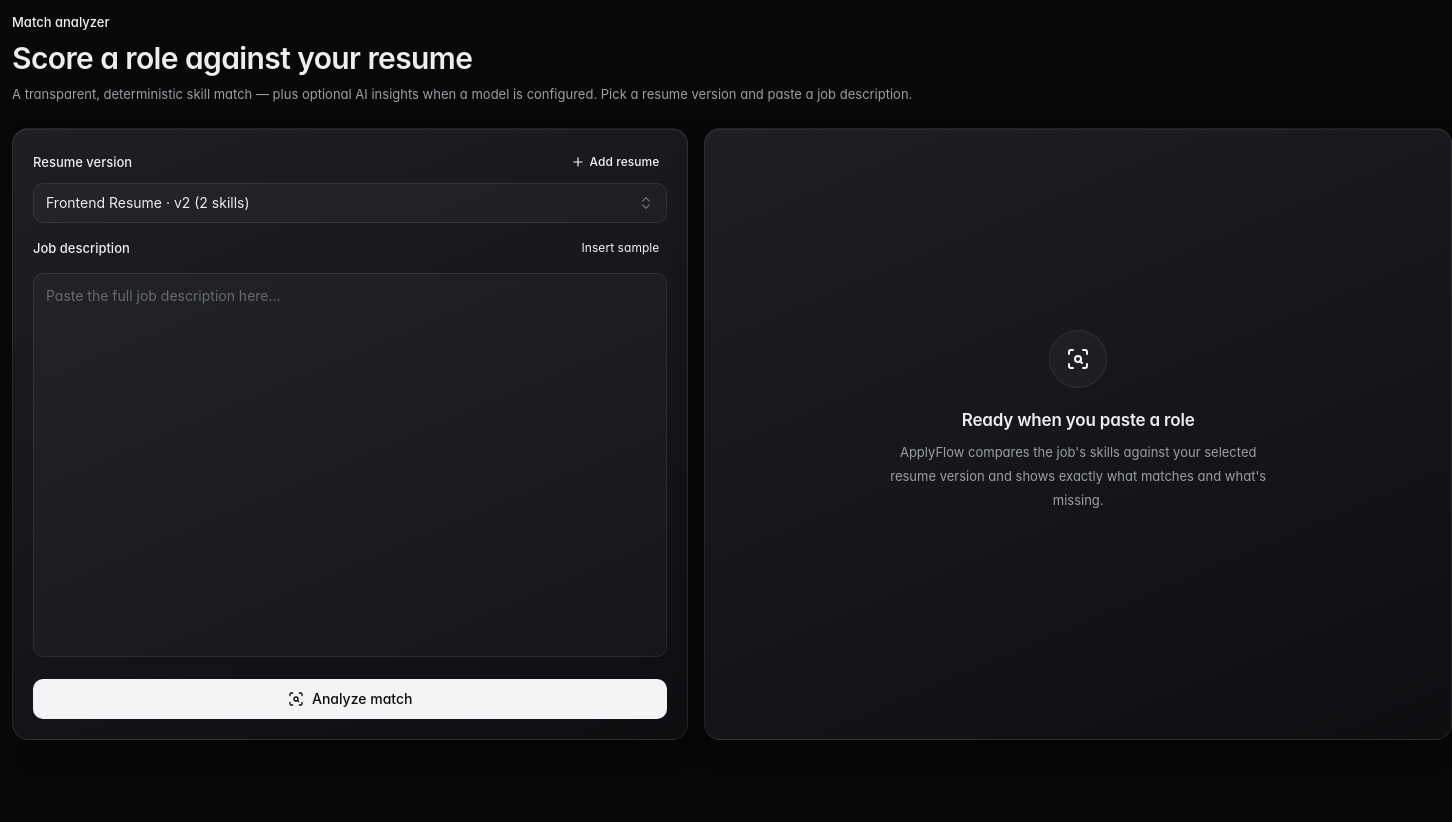
Test: AnalyzerWorkspace › falls back to deterministic-only when AI is unavailable
The width and height of the screenshot is (1452, 822).
Type "We need a frontend engineer strong in React and TypeScript to build accessible UI at scale." into the text box labelled "Job description" at (350, 465), box [33,273,667,657]
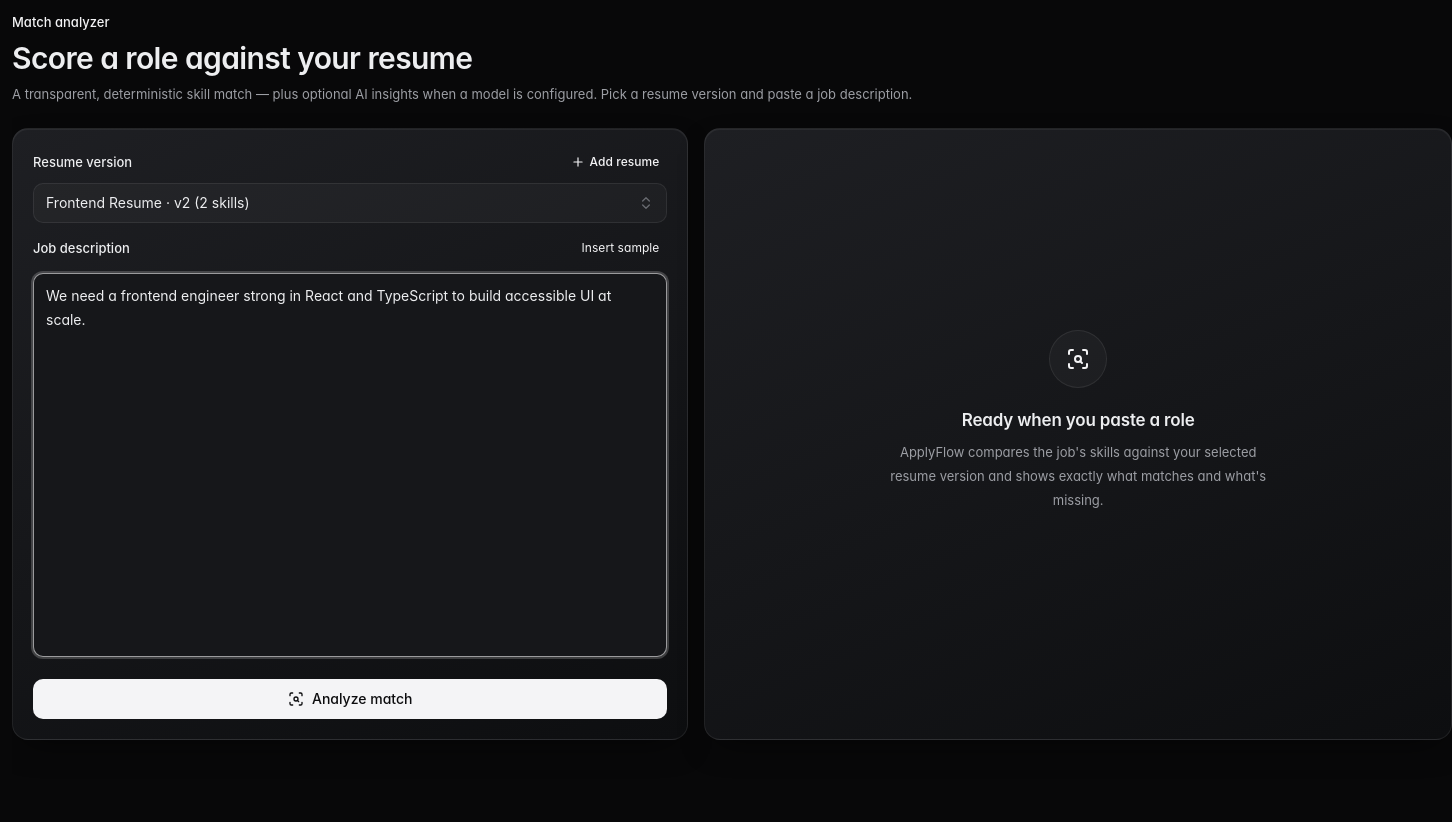
Click the button "Analyze match" at (350, 699), box [33,679,667,719]
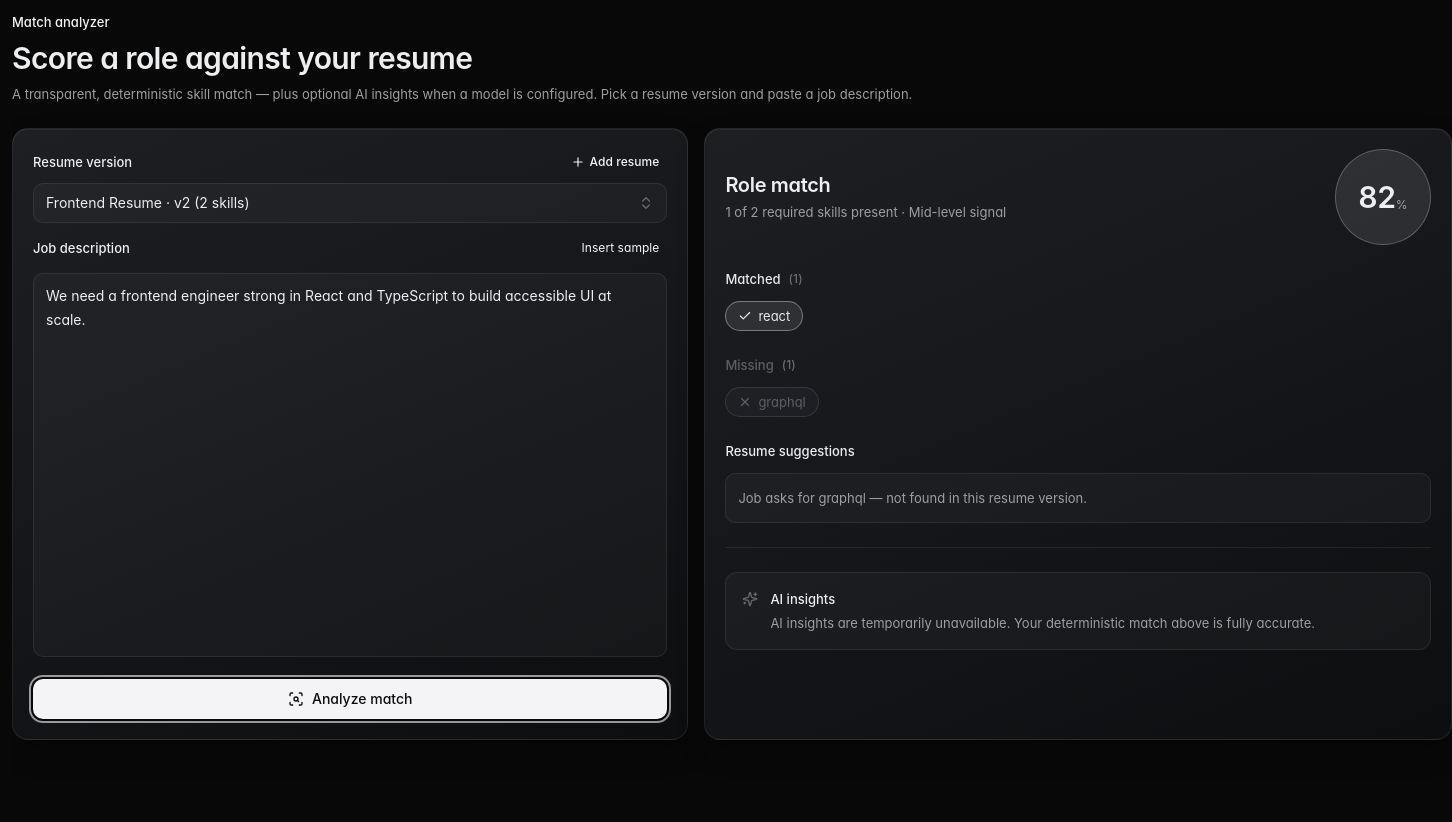
Expected: the text "82" is shown, [1358,179,1396,215]
Expected: the text "temporarily unavailable" is shown, [770,615,1315,631]
